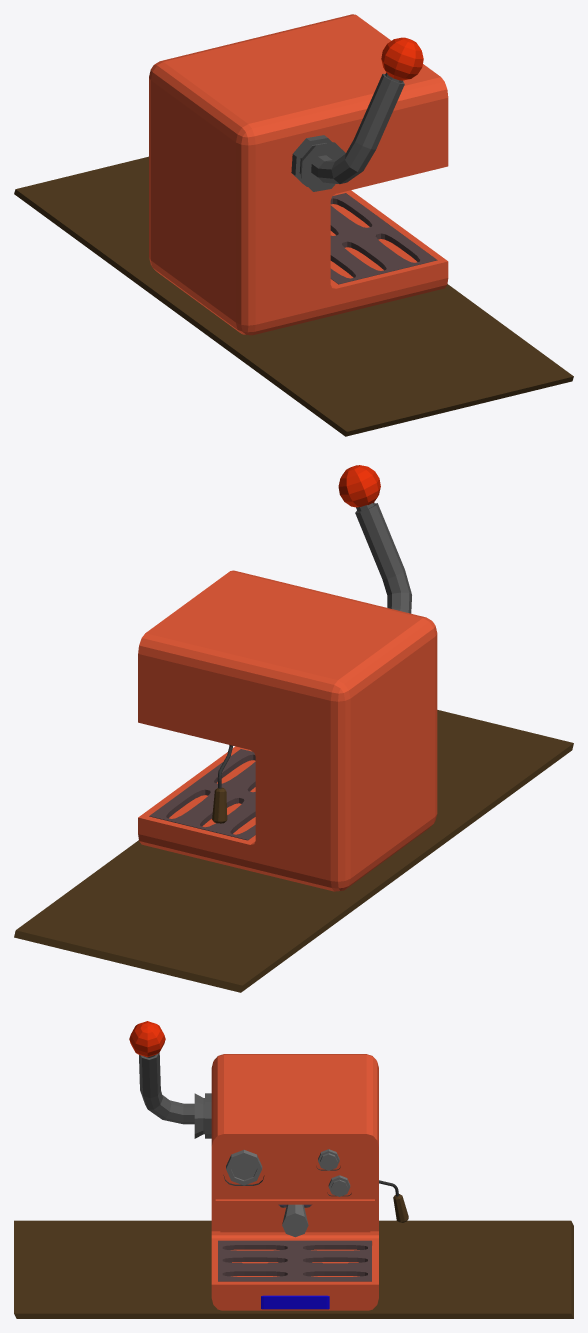
Rendered from Coffee machine.fbx.
3 renders of one model, top to bottom at view 1: azimuth 30°, elevation 25°; view 2: azimuth 150°, elevation 25°; view 3: azimuth 270°, elevation 25°, orthographic. The views are drawn at different scales.
Parts seen in each view (by area): view 1: Cube, Plane.004, Sphere, Cube.002; view 2: Cube, Plane.004, Cube.002, Sphere; view 3: Plane.004, Cube, Cube.002, Sphere, Cube.003, Cylinder, Cylinder.004.
Boxes of the visible parts, x1,y1,x2,y2 form: Cube: [149, 14, 448, 335]; Plane.004: [14, 156, 573, 436]; Sphere: [291, 37, 423, 191]; Cube.002: [330, 193, 437, 284]; Cube: [138, 570, 437, 891]; Plane.004: [14, 710, 573, 992]; Cube.002: [149, 749, 255, 840]; Sphere: [338, 465, 411, 613]; Plane.004: [14, 1220, 573, 1318]; Cube: [211, 1054, 378, 1310]; Cube.002: [218, 1240, 371, 1281]; Sphere: [129, 1021, 211, 1138]; Cube.003: [261, 1295, 329, 1309]; Cylinder: [226, 1150, 262, 1185]; Cylinder.004: [282, 1204, 308, 1237].
Size of the model in its own units: 83.77 by 102 by 201.
